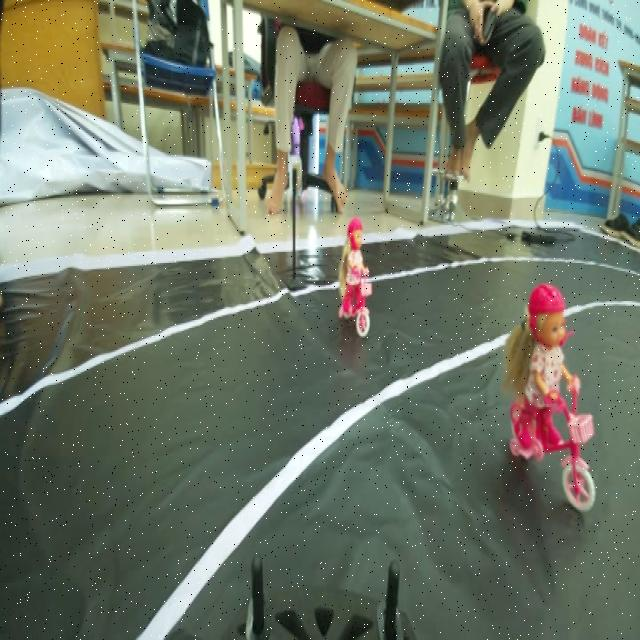pedestrian: (488, 266, 603, 512), (330, 209, 382, 336)
